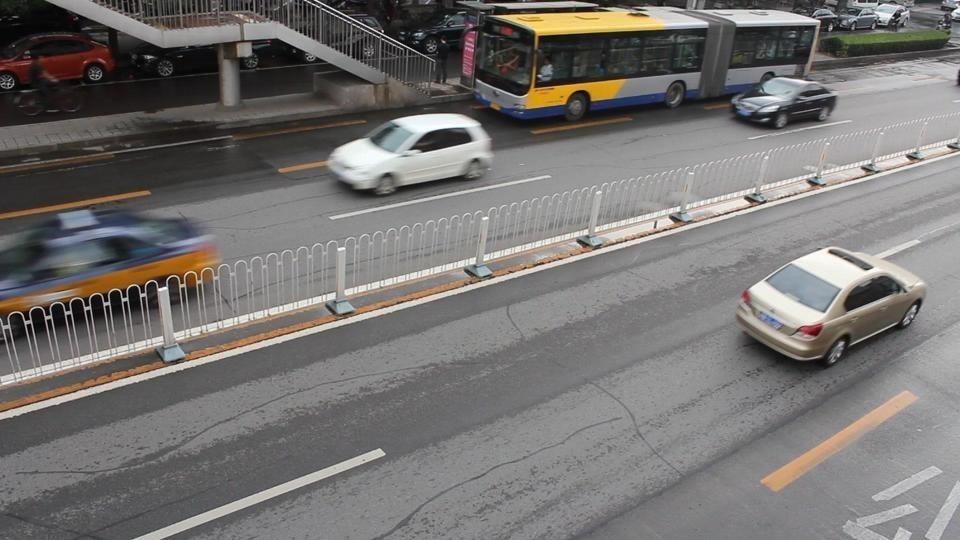car: (0, 203, 223, 321), (735, 245, 927, 367), (326, 112, 494, 196), (0, 34, 115, 89), (730, 76, 839, 129), (131, 42, 264, 78), (400, 13, 479, 53), (874, 4, 912, 29), (839, 11, 879, 32), (939, 0, 960, 23), (810, 7, 840, 23)
